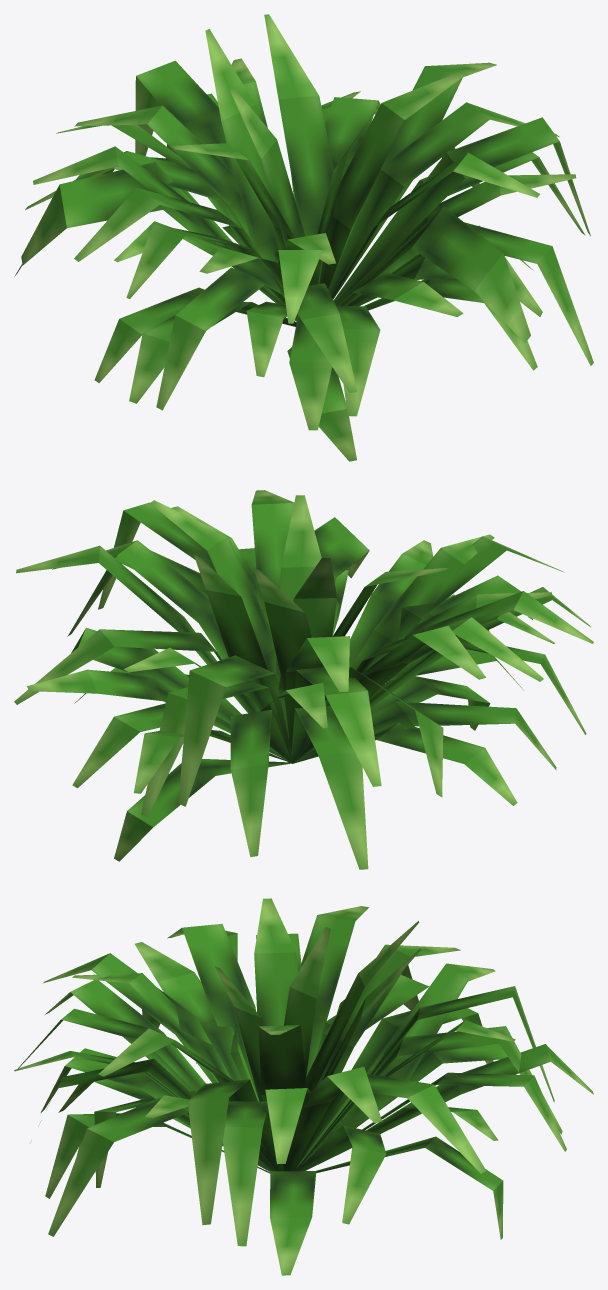
File: Poly_Weed_Plant_02.obj
3 views of the same model, one above another, from view 1: azimuth 30°, elevation 25°; view 2: azimuth 150°, elevation 25°; view 3: azimuth 270°, elevation 25° (orthographic). The views are drawn at different scales.
Parts seen in each view (by area): view 1: Plane.001, Plane.002, Plane.003; view 2: Plane.002, Plane.001, Plane.003; view 3: Plane.002, Plane.001, Plane.003.
Boxes of the visible parts, bbox=[...] form: Plane.001: bbox=[25, 14, 576, 416]; Plane.002: bbox=[14, 60, 593, 430]; Plane.003: bbox=[56, 58, 542, 461]; Plane.002: bbox=[67, 490, 593, 869]; Plane.001: bbox=[14, 500, 551, 805]; Plane.003: bbox=[27, 534, 590, 861]; Plane.002: bbox=[38, 923, 562, 1246]; Plane.001: bbox=[40, 898, 486, 1275]; Plane.003: bbox=[14, 930, 593, 1239].
Bounding box in the file's own units: 0.4485 × 0.2502 × 0.4814.
1 material, 1 textured.
